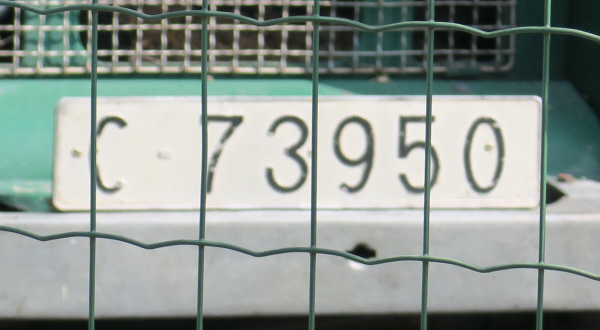license_plate: (52, 96, 543, 209)
